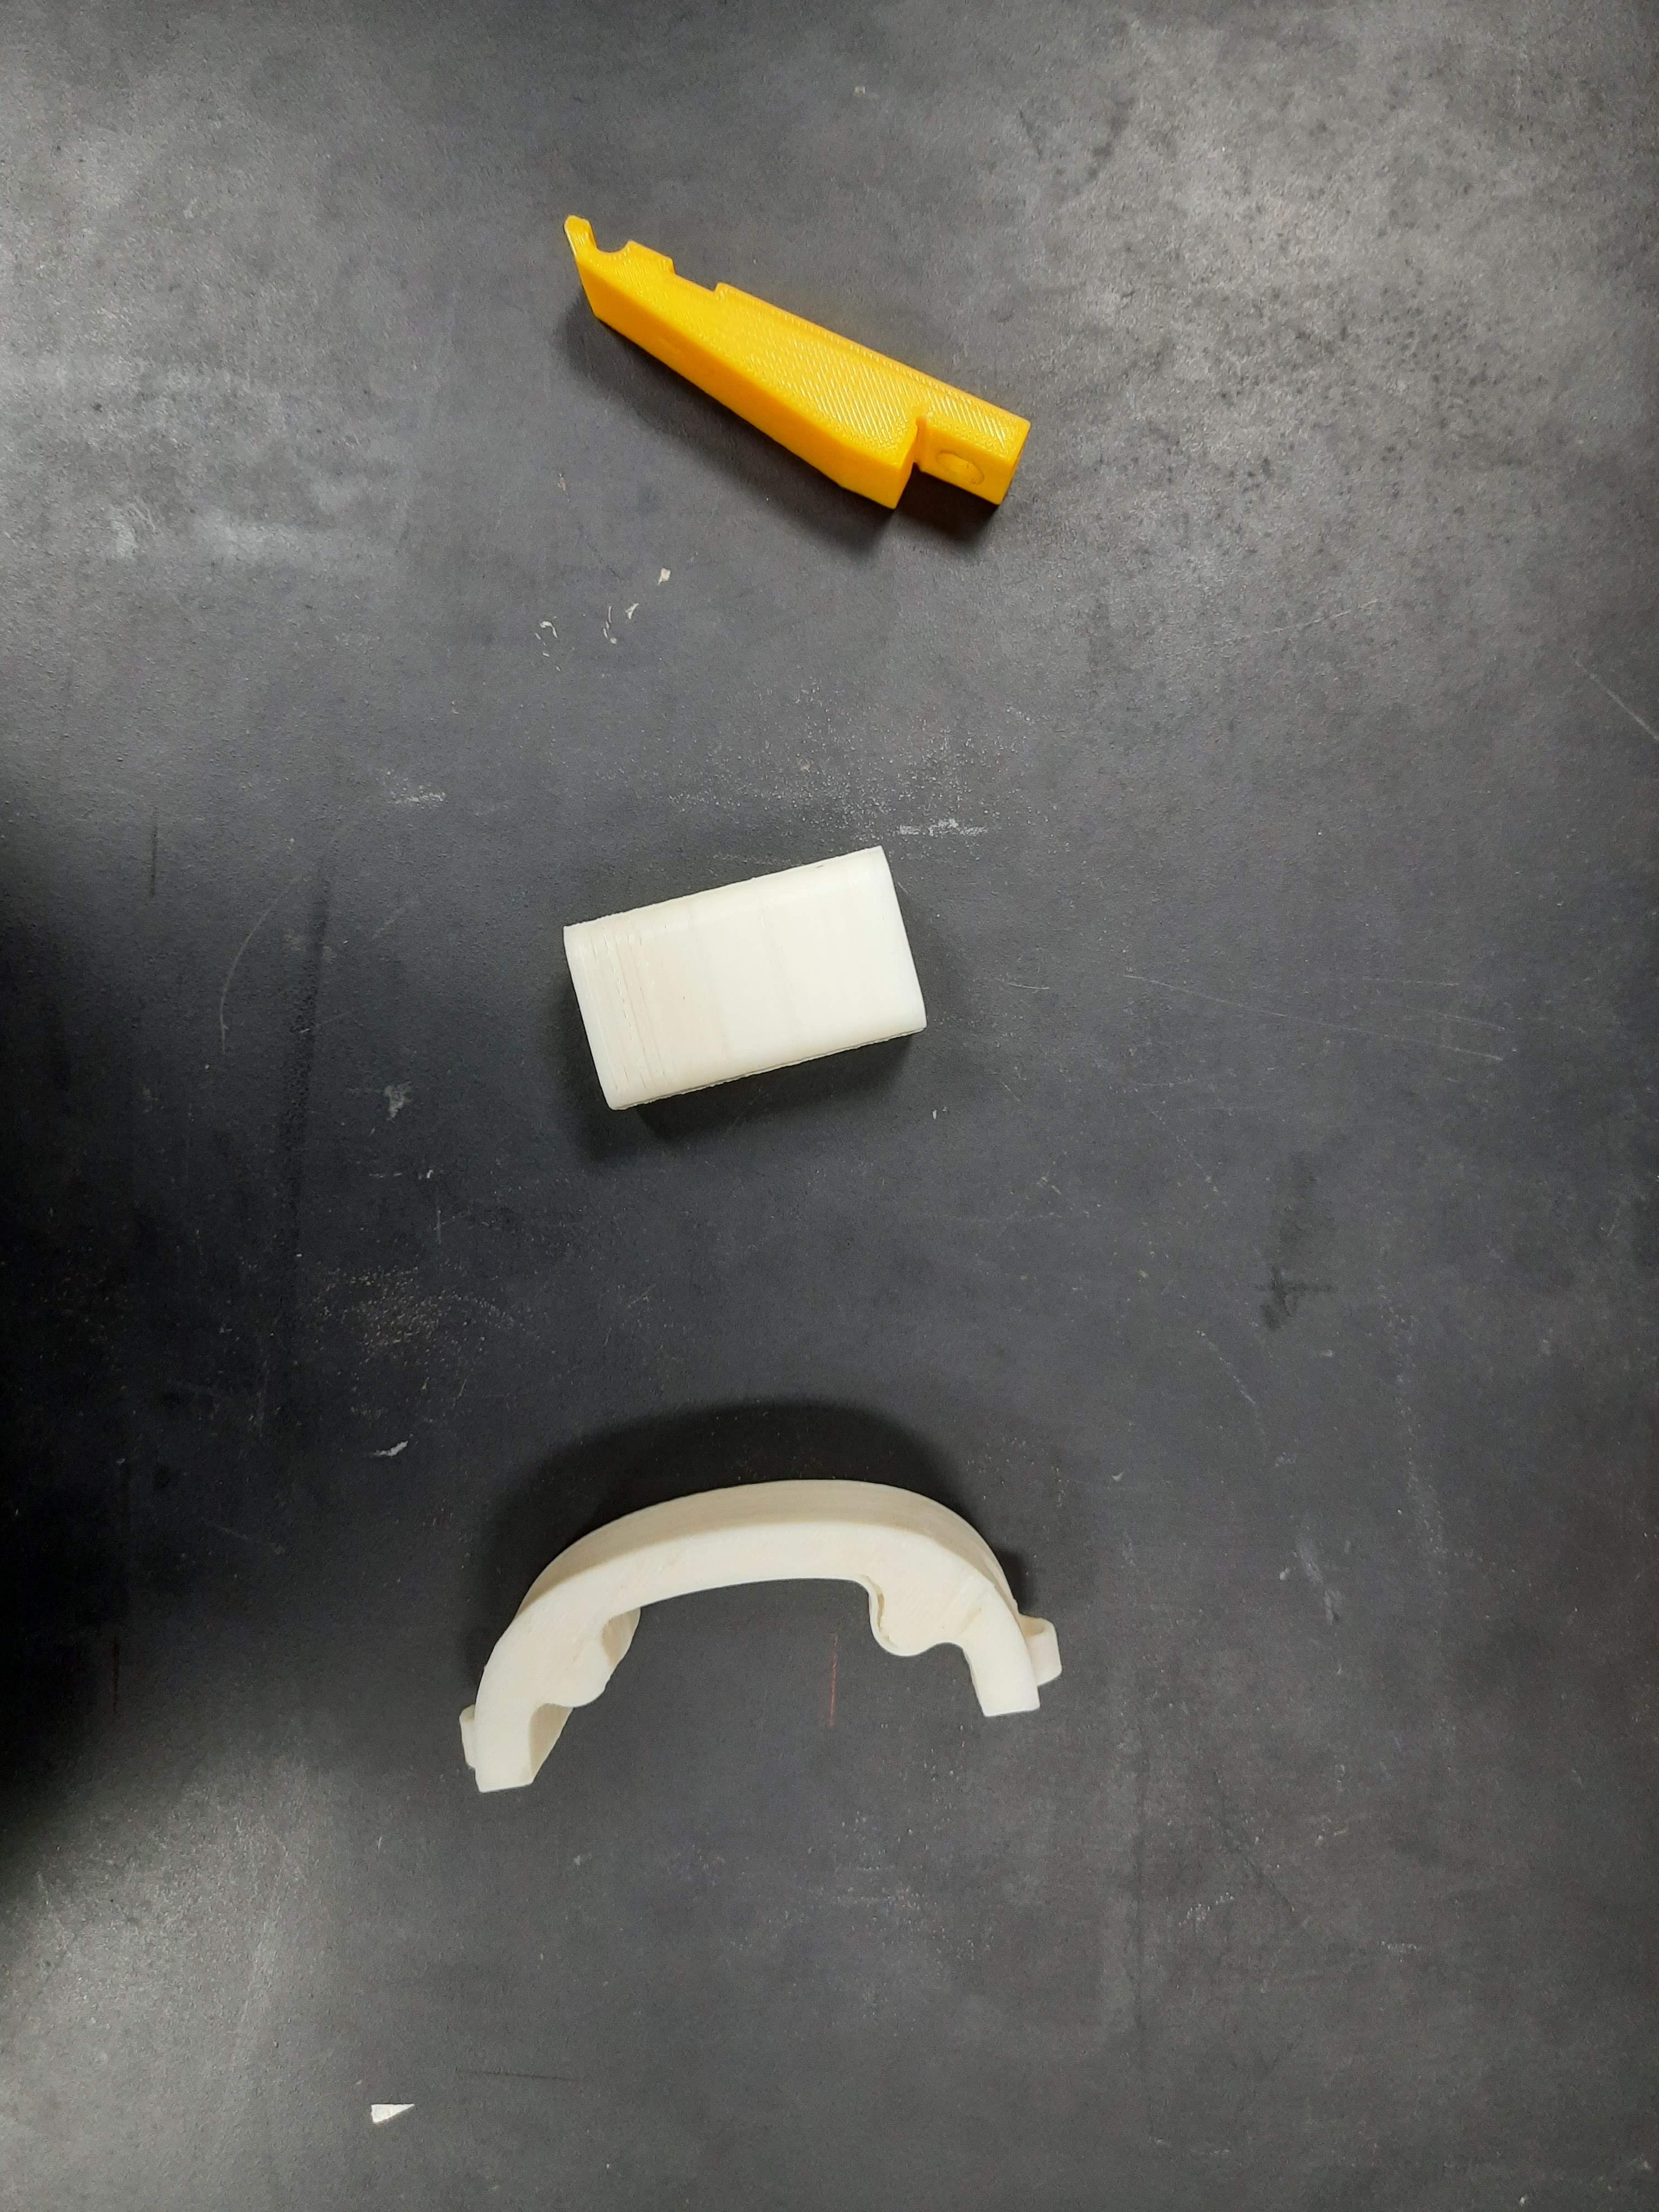ARC: (423, 1435, 1068, 1810)
CUBE: (566, 845, 932, 1108)
YELLOW: (507, 200, 1051, 556)
